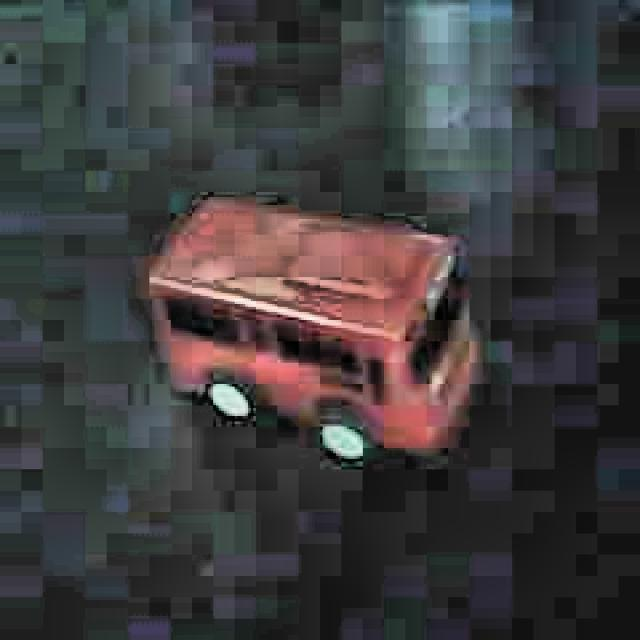bus: (138, 192, 482, 470)
